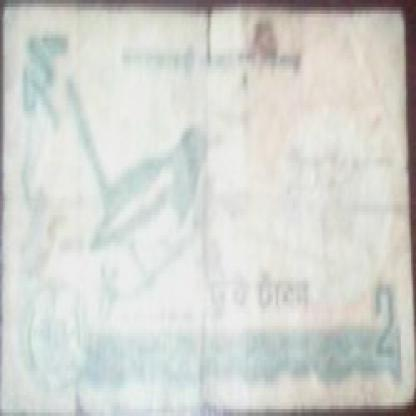two taka: (193, 243, 310, 329), (18, 42, 75, 142), (361, 291, 414, 364)
